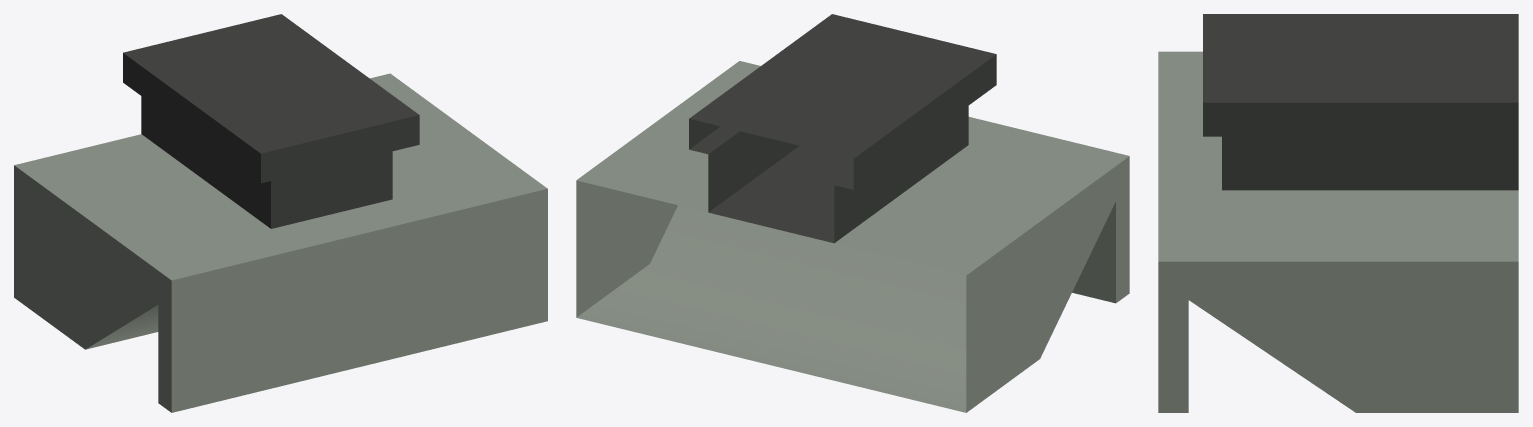
File: soft_projector.fbx
The picture shows the model from 3 angles, left to right: view 1: azimuth 30°, elevation 25°; view 2: azimuth 150°, elevation 25°; view 3: azimuth 270°, elevation 25°; orthographic projection. The views are drawn at different scales.
Parts seen in each view (by area): view 1: soft_projector; view 2: soft_projector; view 3: soft_projector.
Boxes of the visible parts, x1,y1,x2,y2 form: soft_projector: [14, 14, 547, 412]; soft_projector: [576, 14, 1129, 412]; soft_projector: [1158, 14, 1518, 412].
Size of the model in its own units: 1.85 by 1.03 by 1.34.
